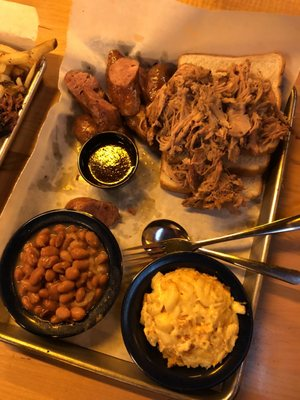salad: (141, 216, 300, 284), (141, 214, 300, 262)
sushi: (120, 252, 256, 394), (0, 209, 124, 338), (78, 131, 139, 189)
